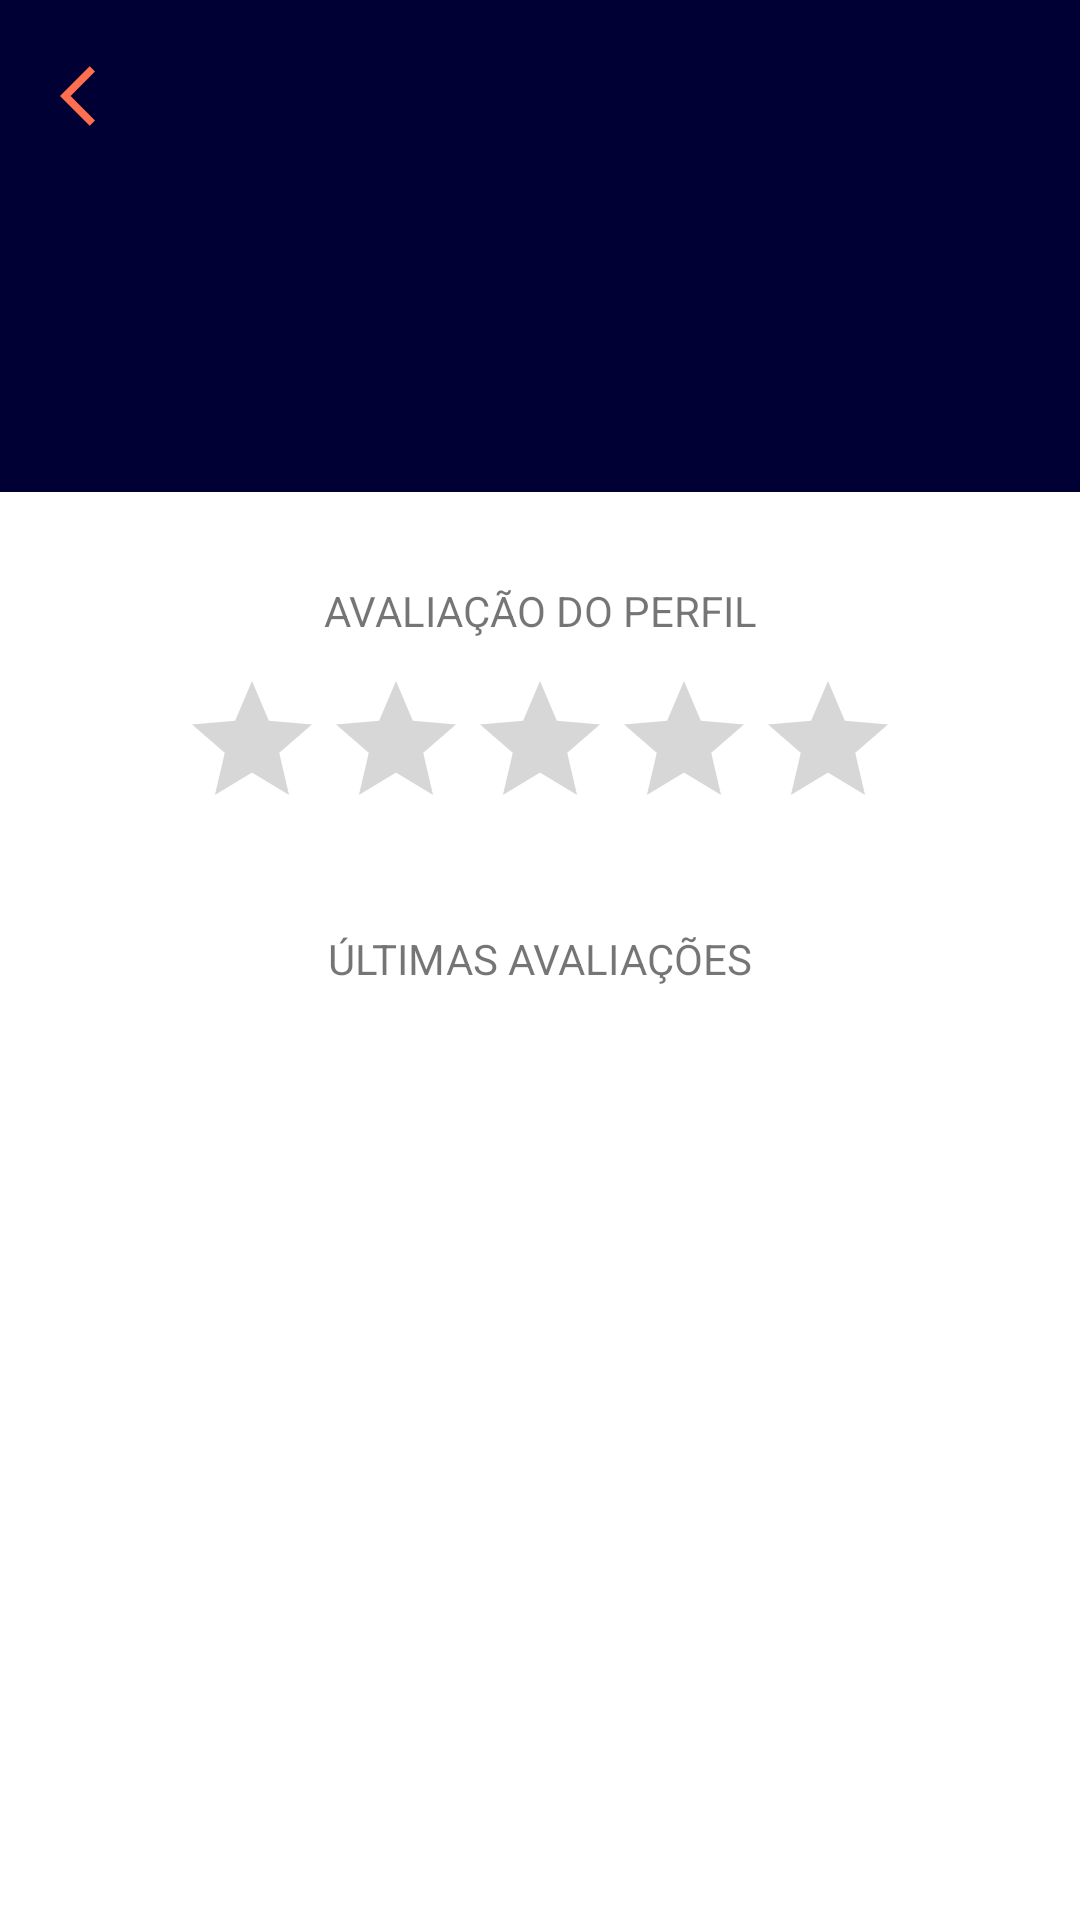

Point at icon controls on the screen. Image size 1080*1920, points as (x,y).
arrow back: (77,96)
